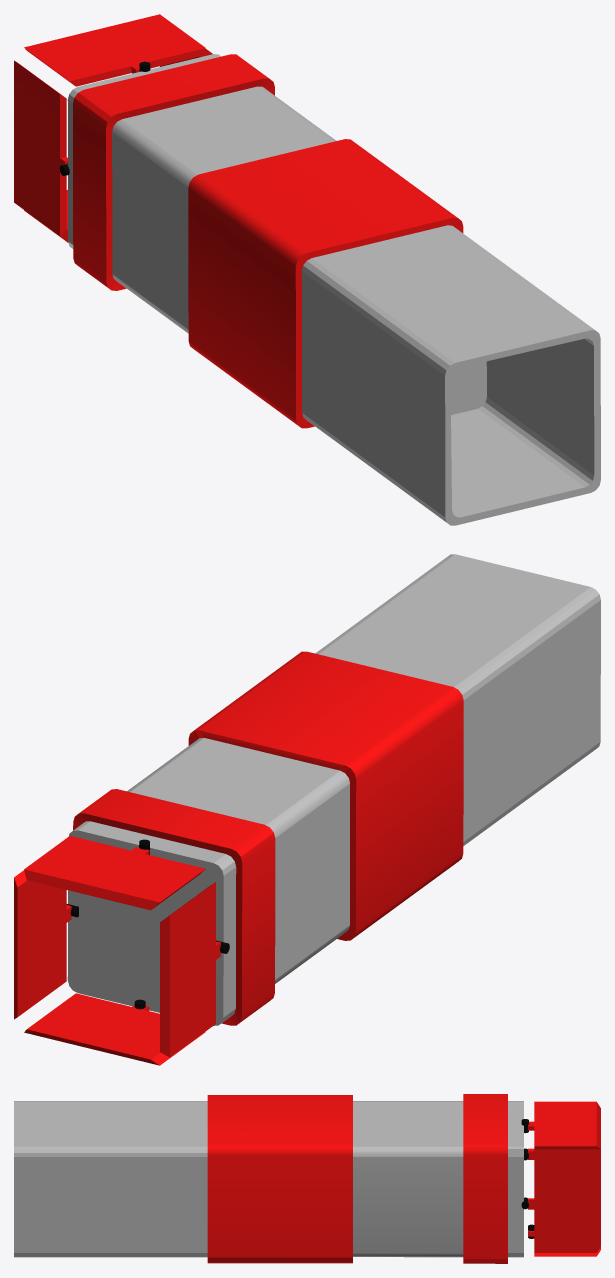
The model's file is RifleSpecial_Base.FBX.
3 views of the same model, one above another, from view 1: azimuth 30°, elevation 25°; view 2: azimuth 150°, elevation 25°; view 3: azimuth 270°, elevation 25° (orthographic). The views are drawn at different scales.
Parts seen in each view (by area): view 1: BaseChamber, Flap_Right_Up, Flap_Left_Up; view 2: BaseChamber, Flap_Right_Up, Flap_Left_Up, Flap_Left_Down, Flap_Right_Down; view 3: BaseChamber, Flap_Left_Down, Flap_Left_Up, Flap_Right_Up, Flap_Right_Down.
Part boxes in pixels (x1,y1,x2,y2): BaseChamber: [67, 54, 600, 525]; Flap_Right_Up: [14, 60, 67, 235]; Flap_Left_Up: [24, 14, 205, 86]; BaseChamber: [67, 554, 600, 1025]; Flap_Right_Up: [160, 882, 220, 1057]; Flap_Left_Up: [24, 835, 205, 910]; Flap_Left_Down: [14, 870, 71, 1019]; Flap_Right_Down: [24, 993, 205, 1065]; BaseChamber: [14, 1094, 523, 1263]; Flap_Left_Down: [528, 1157, 600, 1252]; Flap_Left_Up: [528, 1101, 600, 1149]; Flap_Right_Up: [528, 1148, 600, 1159]; Flap_Right_Down: [528, 1230, 600, 1256].
Bounding box in the file's own units: 16.55 × 16.55 × 73.04.
